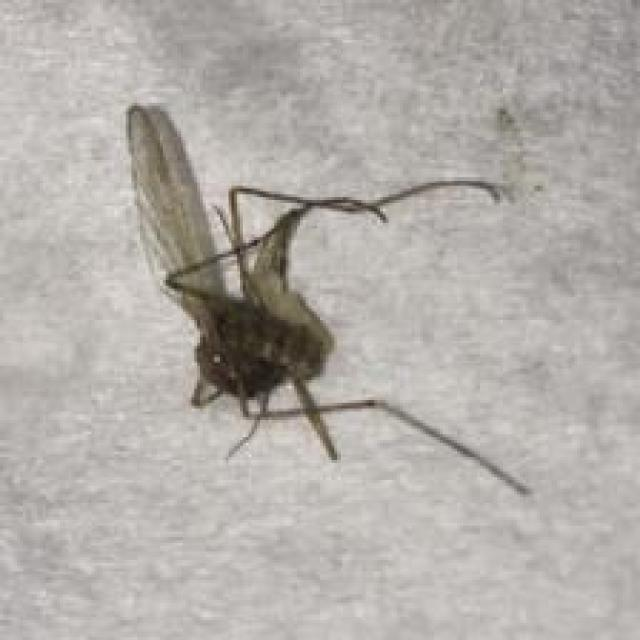Culex: (123, 100, 534, 497)
